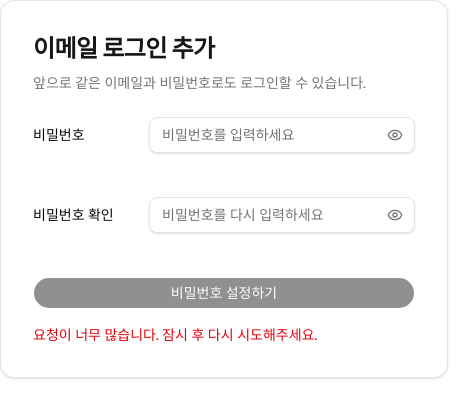
SetPasswordForm › blocked SYSTEM root error는 다음 유효한 submit 시작 시 제거한다
Expected: the text "요청이 너무 많습니다. 잠시 후 다시 시도해주세요." is shown, [33,326,317,344]
Type "Password123!" into the password field labelled "비밀번호" at (282,135), box [149,117,415,153]
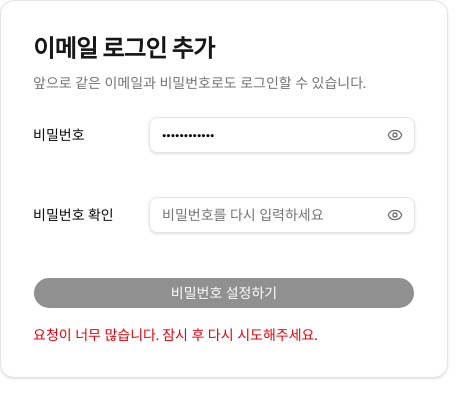
Type "Password123!" into the password field labelled "비밀번호 확인" at (282,215), box [149,197,415,233]
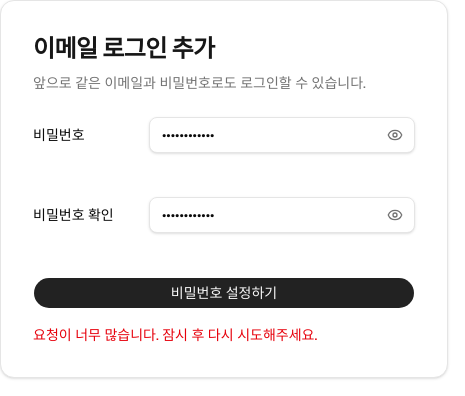
Expected: the button "비밀번호 설정하기" is enabled, [33,277,415,309]
Submit the form "비밀번호 설정하기"
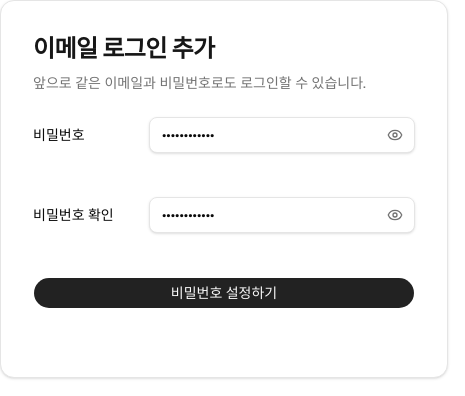
Expected: the text "요청이 너무 많습니다. 잠시 후 다시 시도해주세요." is gone
